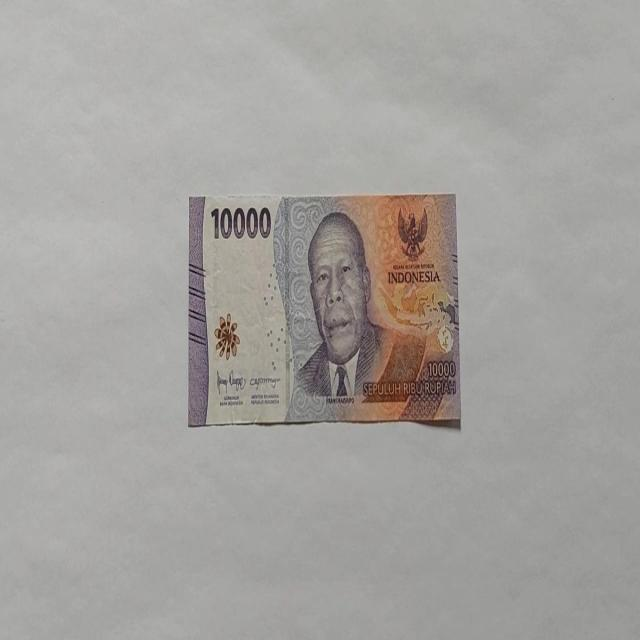Kertas: (187, 191, 461, 429), (210, 203, 272, 241)
